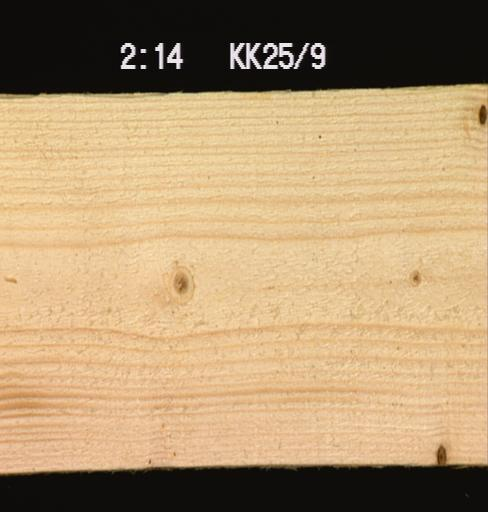dry_knot: (473, 97, 487, 126)
edge_knot: (433, 439, 448, 463)
small_knot: (406, 266, 424, 289)
sound_knot: (164, 262, 195, 300)
wave: (0, 91, 192, 101)
